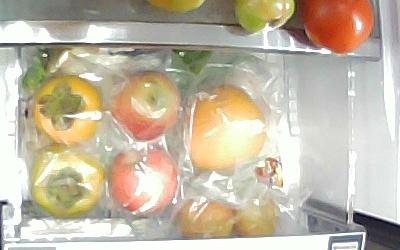apple_vinyl: (110, 70, 182, 141), (110, 146, 177, 216)
grapefruit_vinyl: (190, 83, 267, 169)
persimmon_vinyl: (33, 145, 108, 216), (33, 75, 103, 147)
prune_vinyl: (179, 197, 236, 240), (235, 197, 278, 238)
